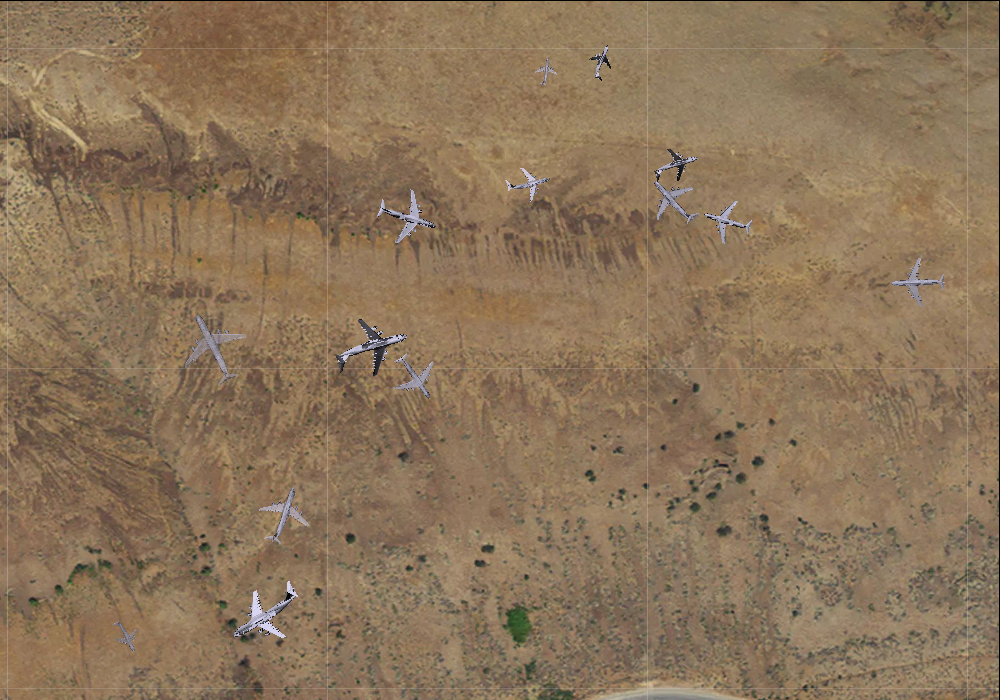plane: (213, 562, 315, 662), (163, 298, 261, 398), (325, 305, 417, 392), (636, 162, 712, 238), (369, 180, 444, 253), (246, 477, 319, 552), (380, 342, 449, 412), (698, 191, 758, 250), (647, 139, 704, 192), (890, 256, 946, 309), (501, 157, 554, 208), (581, 39, 623, 84), (103, 614, 145, 659), (530, 55, 559, 86)
